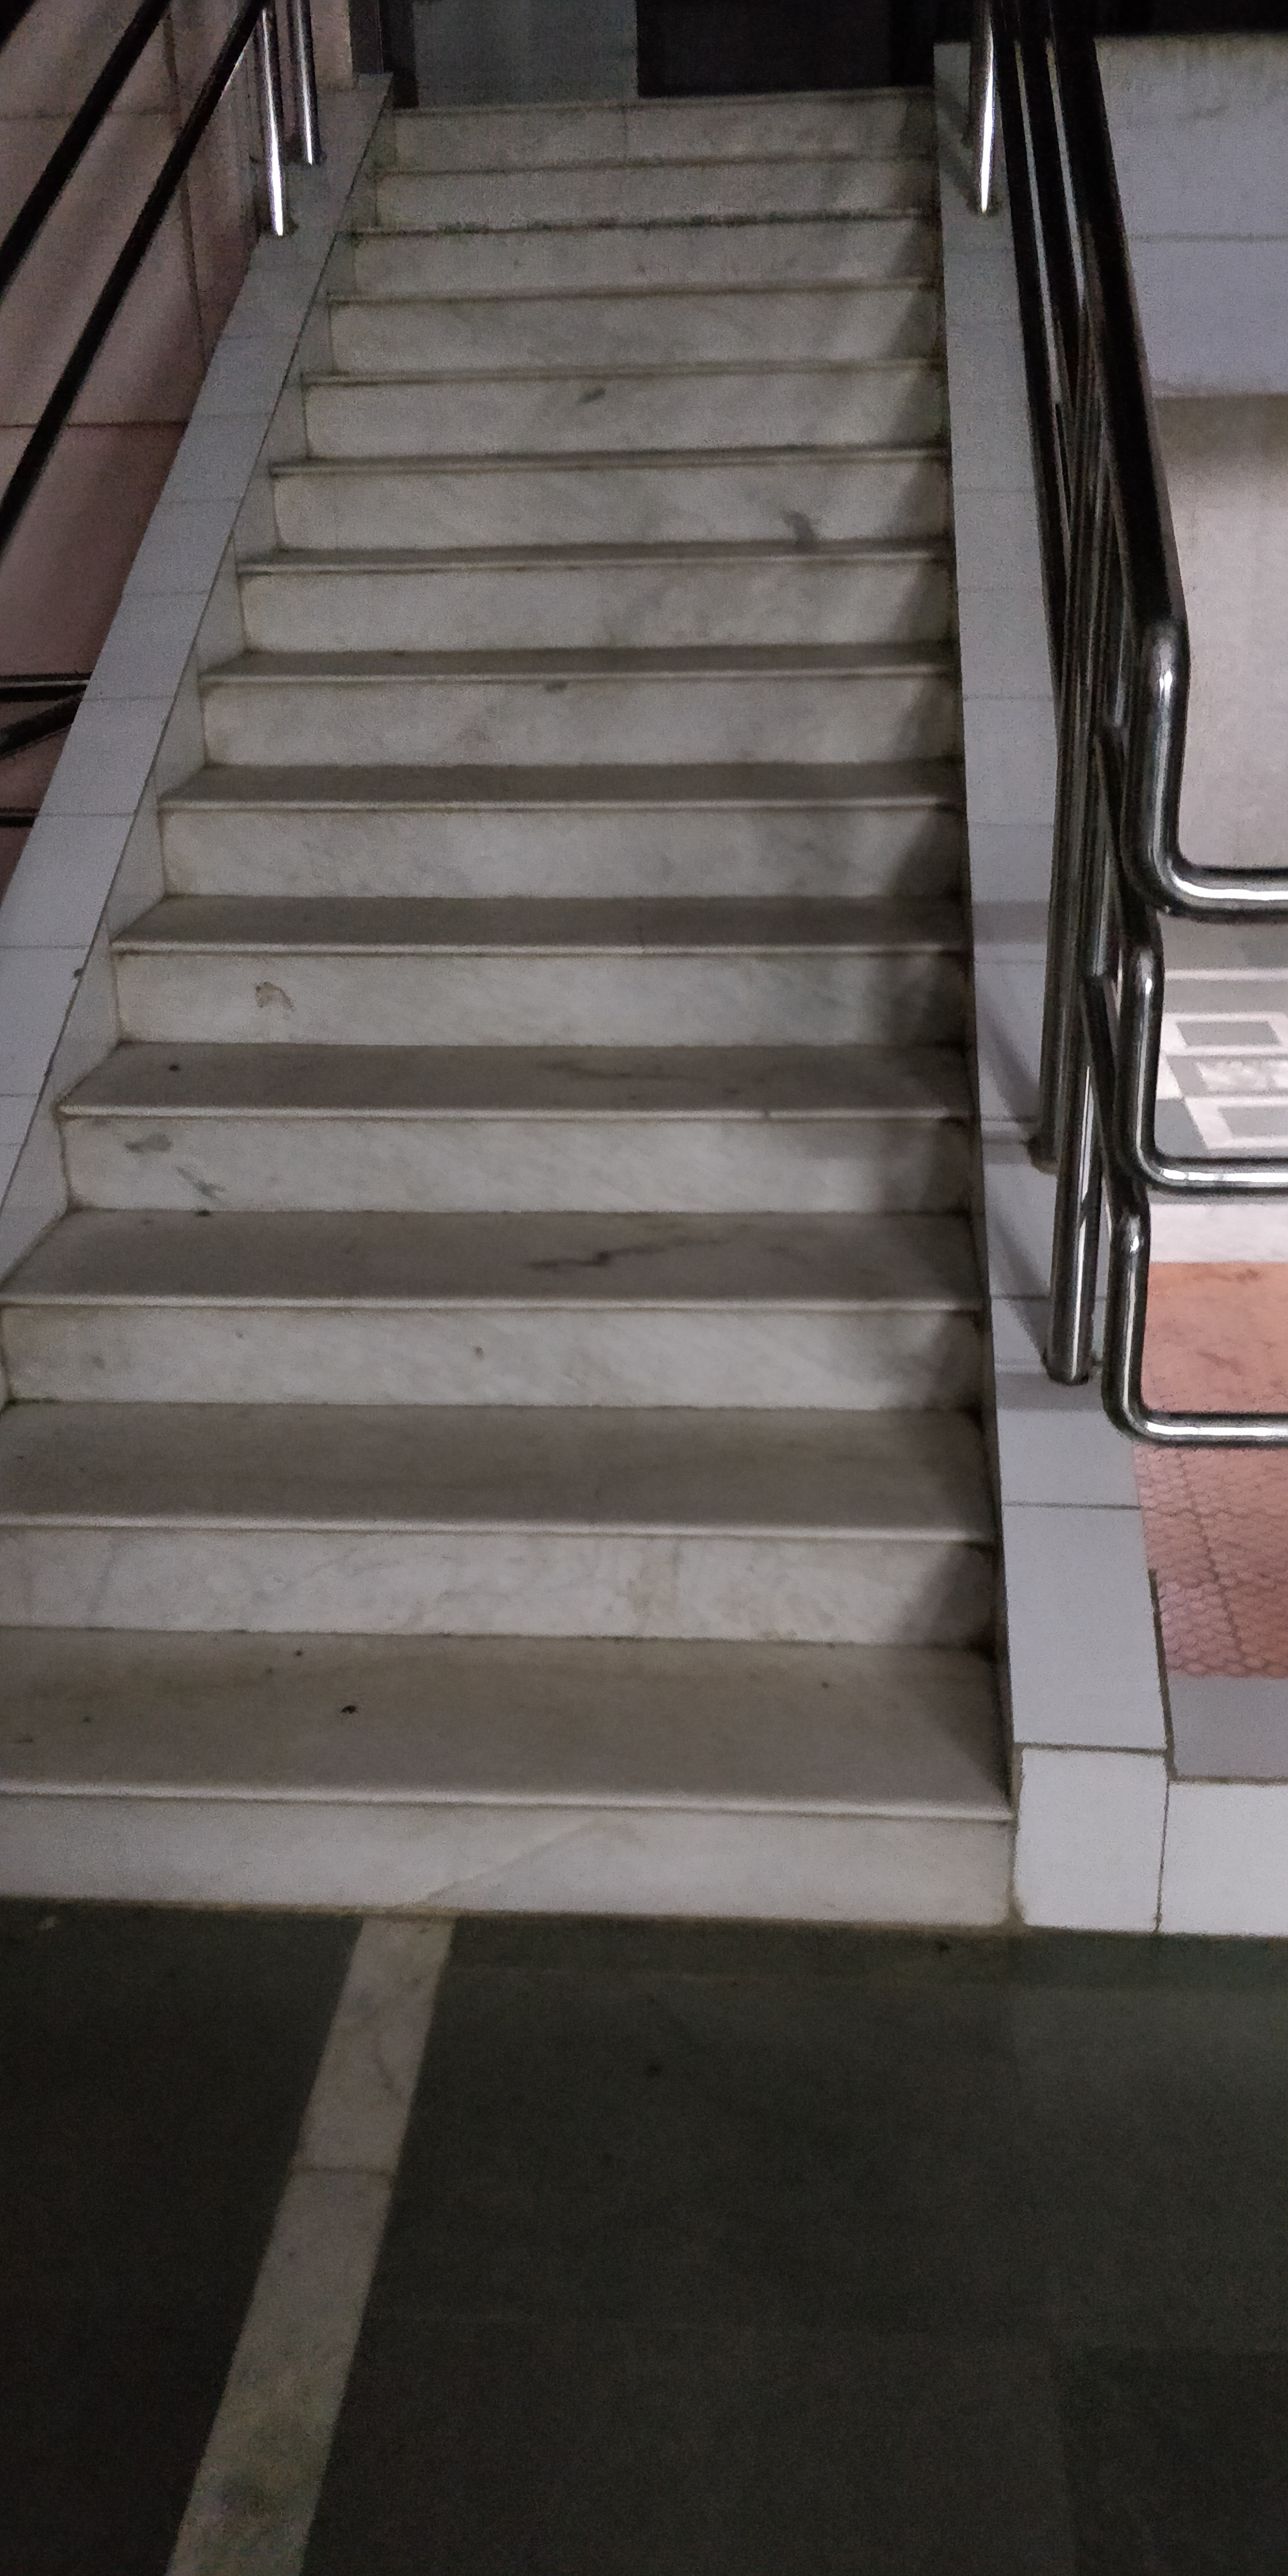stairs_up: (0, 48, 1147, 2021)
